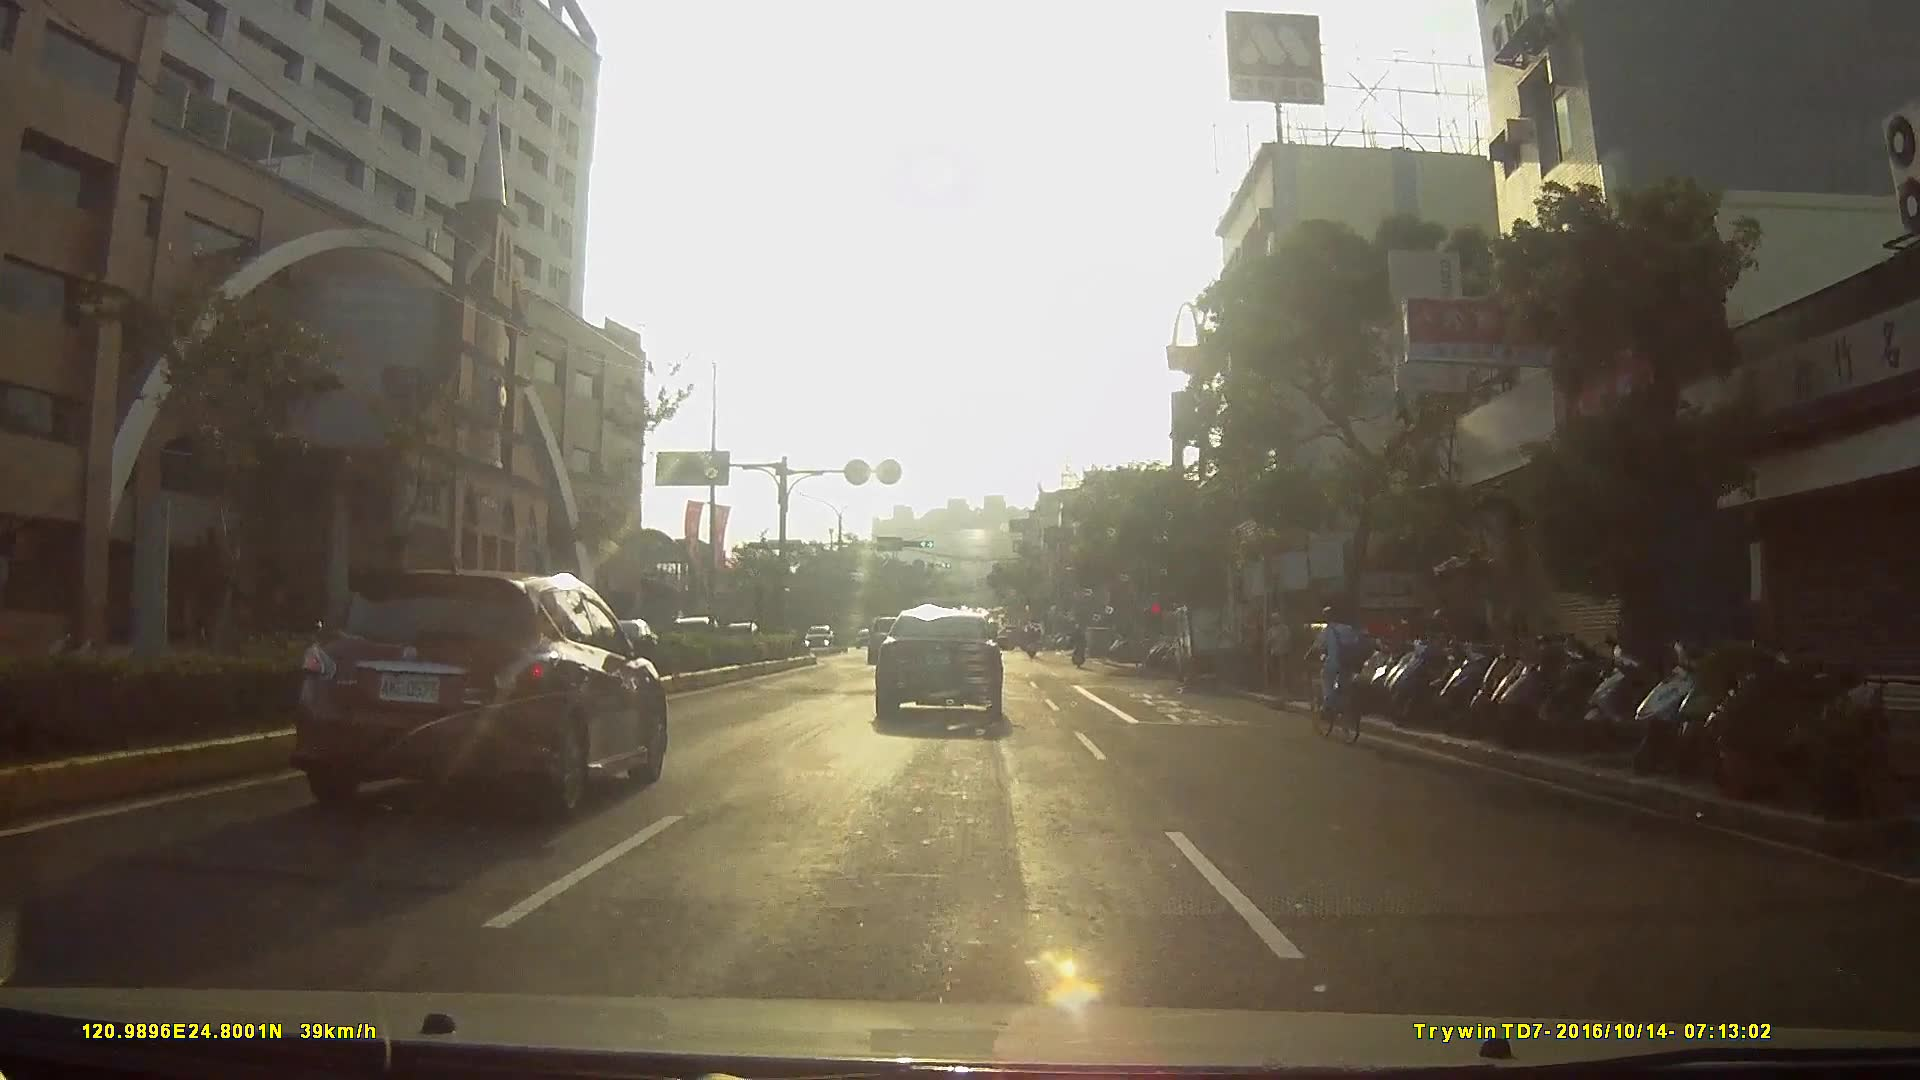pedestrian: (1264, 615, 1298, 702)
rider: (1307, 608, 1374, 745)
vehicle: (285, 564, 677, 821), (868, 607, 1017, 734), (1169, 599, 1255, 685), (763, 607, 822, 662), (792, 622, 842, 659)
